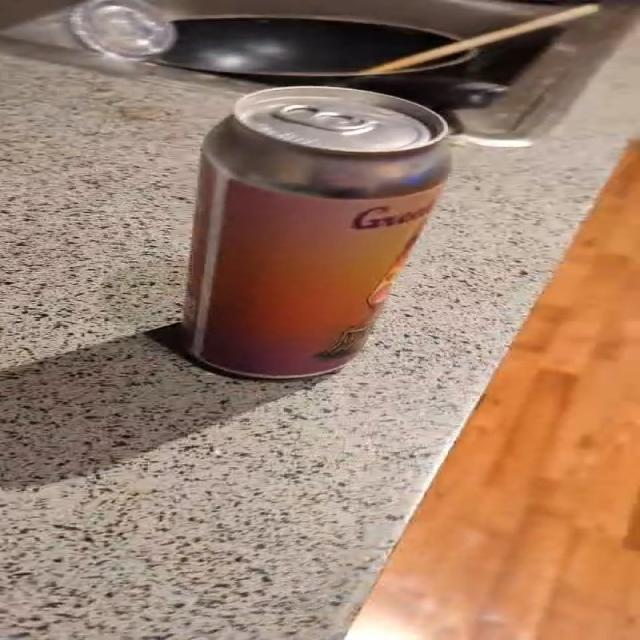metal: (185, 86, 451, 379)
